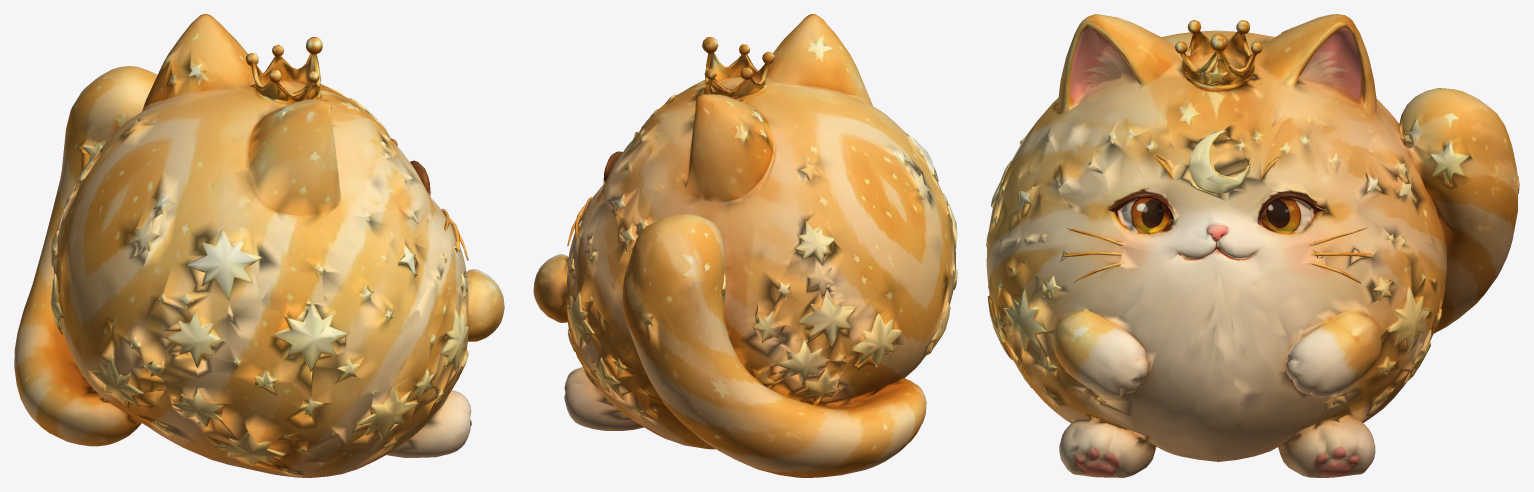
File: CAT_L09.glb
The picture shows the model from 3 angles, left to right: view 1: azimuth 30°, elevation 25°; view 2: azimuth 150°, elevation 25°; view 3: azimuth 270°, elevation 25°; orthographic projection. The views are drawn at different scales.
Visible parts, largest first — view 1: tripo_node_b49de659-9de2-4962-9256-9ac368b5368e; view 2: tripo_node_b49de659-9de2-4962-9256-9ac368b5368e; view 3: tripo_node_b49de659-9de2-4962-9256-9ac368b5368e.
Part boxes in pixels (x1,y1,x2,y2): tripo_node_b49de659-9de2-4962-9256-9ac368b5368e: [14, 14, 504, 477]; tripo_node_b49de659-9de2-4962-9256-9ac368b5368e: [533, 14, 957, 477]; tripo_node_b49de659-9de2-4962-9256-9ac368b5368e: [986, 14, 1519, 477].
Size of the model in its own units: 0.8615 by 0.8224 by 0.9794.
1 material, 1 textured.
